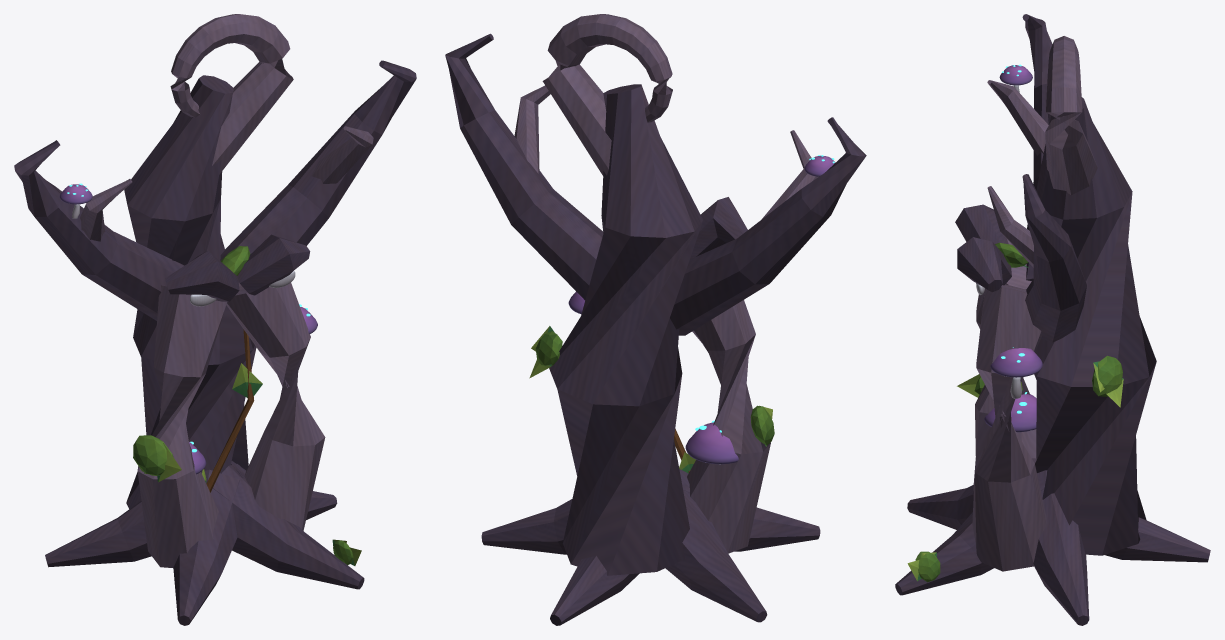
The model's file is forest_hollow_tree.glb.
3 views of the same model, side by side, from view 1: azimuth 30°, elevation 25°; view 2: azimuth 150°, elevation 25°; view 3: azimuth 270°, elevation 25° (orthographic). The views are drawn at different scales.
Visible parts, largest first — view 1: Hollow watcher rear trunk, Hollow watcher cheek timber, Hollow watcher cheek timber.001, Crooked reaching bough, Watcher spiral crown, Crooked reaching bough.001, Splayed dreaming tree root.004, Splayed dreaming tree root.003, Splayed dreaming tree root.002, Raised wooden brow.001, Raised wooden brow, Forked reaching twig.001 (+5 smaller); view 2: Hollow watcher rear trunk, Crooked reaching bough.001, Crooked reaching bough, Hollow watcher cheek timber, Watcher spiral crown, Splayed dreaming tree root.002, Splayed dreaming tree root, Splayed dreaming tree root.001, Splayed dreaming tree root.003, Raised wooden brow, Forked reaching twig.001, Broad faceted mushroom cap (+3 smaller); view 3: Hollow watcher rear trunk, Hollow watcher cheek timber.001, Crooked reaching bough.001, Watcher spiral crown, Splayed dreaming tree root, Splayed dreaming tree root.004, Splayed dreaming tree root.001, Crooked reaching bough, Raised wooden brow.001, Hollow watcher cheek timber, Splayed dreaming tree root.003, Forked reaching twig (+8 smaller).
Part boxes in pixels (bbox=[...]): Hollow watcher rear trunk: bbox=[124, 75, 256, 508]; Hollow watcher cheek timber: bbox=[137, 285, 227, 567]; Hollow watcher cheek timber.001: bbox=[226, 283, 325, 530]; Crooked reaching bough: bbox=[14, 140, 184, 320]; Watcher spiral crown: bbox=[170, 14, 293, 174]; Crooked reaching bough.001: bbox=[220, 60, 416, 282]; Splayed dreaming tree root.004: bbox=[212, 464, 364, 589]; Splayed dreaming tree root.003: bbox=[173, 469, 239, 625]; Splayed dreaming tree root.002: bbox=[45, 501, 151, 567]; Raised wooden brow.001: bbox=[237, 234, 310, 295]; Raised wooden brow: bbox=[165, 251, 239, 301]; Forked reaching twig.001: bbox=[311, 126, 373, 183]; Hollow watcher rear trunk: bbox=[549, 84, 703, 575]; Crooked reaching bough.001: bbox=[445, 33, 603, 300]; Crooked reaching bough: bbox=[670, 117, 866, 335]; Hollow watcher cheek timber: bbox=[687, 300, 770, 553]; Watcher spiral crown: bbox=[542, 14, 672, 175]; Splayed dreaming tree root.002: bbox=[665, 472, 767, 622]; Splayed dreaming tree root: bbox=[481, 499, 572, 554]; Splayed dreaming tree root.001: bbox=[550, 556, 639, 625]; Splayed dreaming tree root.003: bbox=[679, 469, 820, 551]; Raised wooden brow: bbox=[690, 197, 747, 259]; Forked reaching twig.001: bbox=[514, 85, 550, 173]; Broad faceted mushroom cap: bbox=[685, 422, 738, 464]; Hollow watcher rear trunk: bbox=[1034, 97, 1156, 555]; Hollow watcher cheek timber.001: bbox=[972, 284, 1046, 571]; Crooked reaching bough.001: bbox=[1022, 174, 1086, 342]; Watcher spiral crown: bbox=[1045, 36, 1097, 195]; Splayed dreaming tree root: bbox=[1033, 470, 1089, 625]; Splayed dreaming tree root.004: bbox=[895, 479, 1044, 595]; Splayed dreaming tree root.001: bbox=[1105, 517, 1210, 562]; Crooked reaching bough: bbox=[1022, 14, 1052, 280]; Raised wooden brow.001: bbox=[957, 237, 1011, 292]; Hollow watcher cheek timber: bbox=[973, 239, 1036, 490]; Splayed dreaming tree root.003: bbox=[907, 458, 1036, 529]; Forked reaching twig: bbox=[987, 80, 1048, 155].
Bounding box in the file's own units: 2.43 × 3.04 × 1.65.
10 materials, 9 textured.
